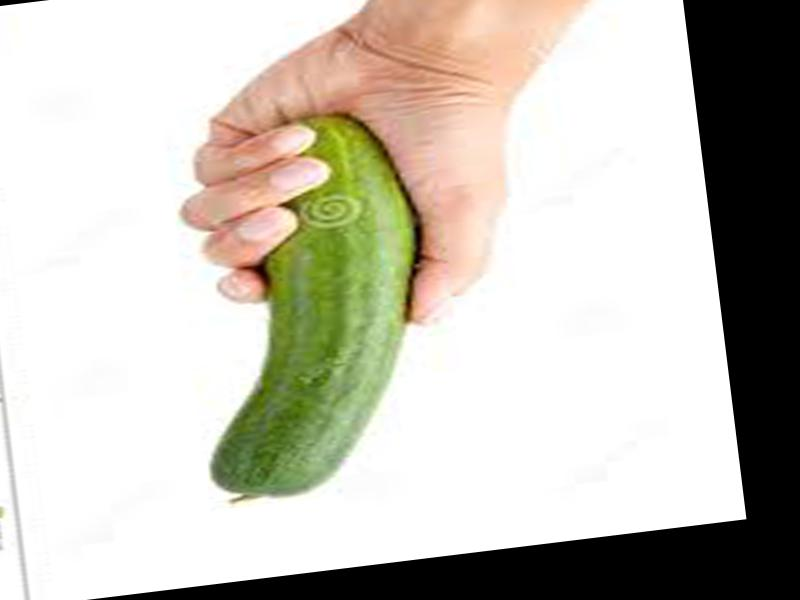Cucumber: (168, 107, 440, 507)
